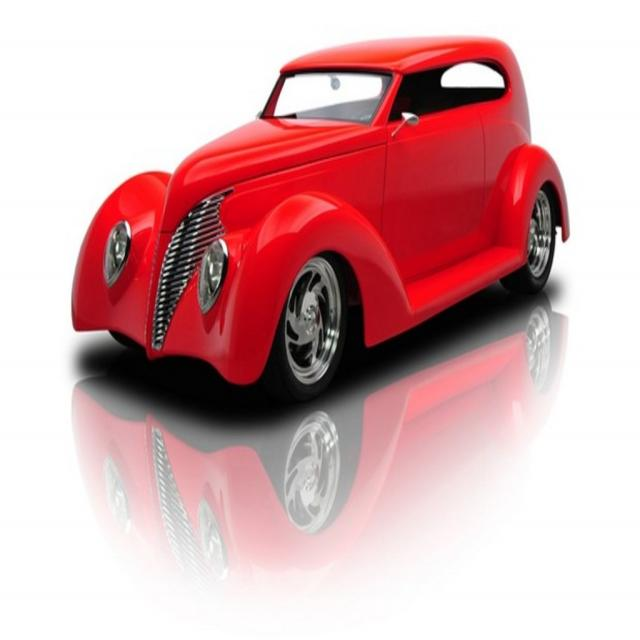other: (69, 20, 577, 400)
